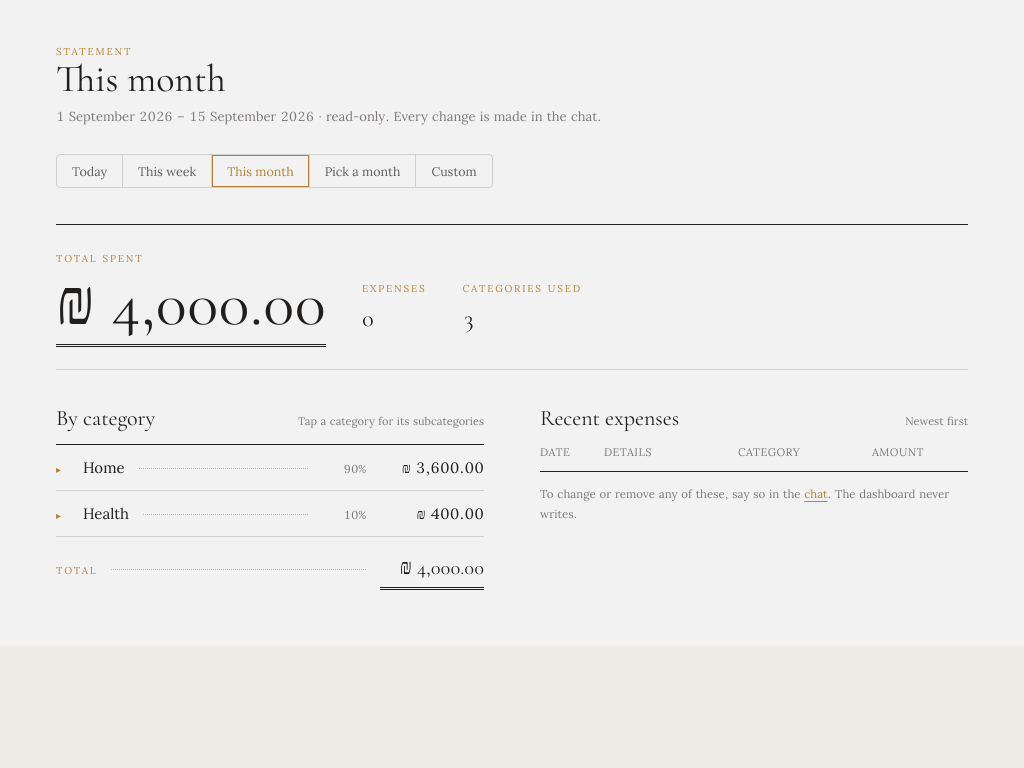
DashboardPage › rolls up a main category with both direct and subcategory spend, and shows each row's % share
Expected: the text "₪ 400.00" is shown, [416,504,484,524]
Expected: the text "10%" is shown, [344,508,366,522]
Click the button "▸ Health 10% ₪ 400.00".
click(106, 514)  # box [56,492,484,538]
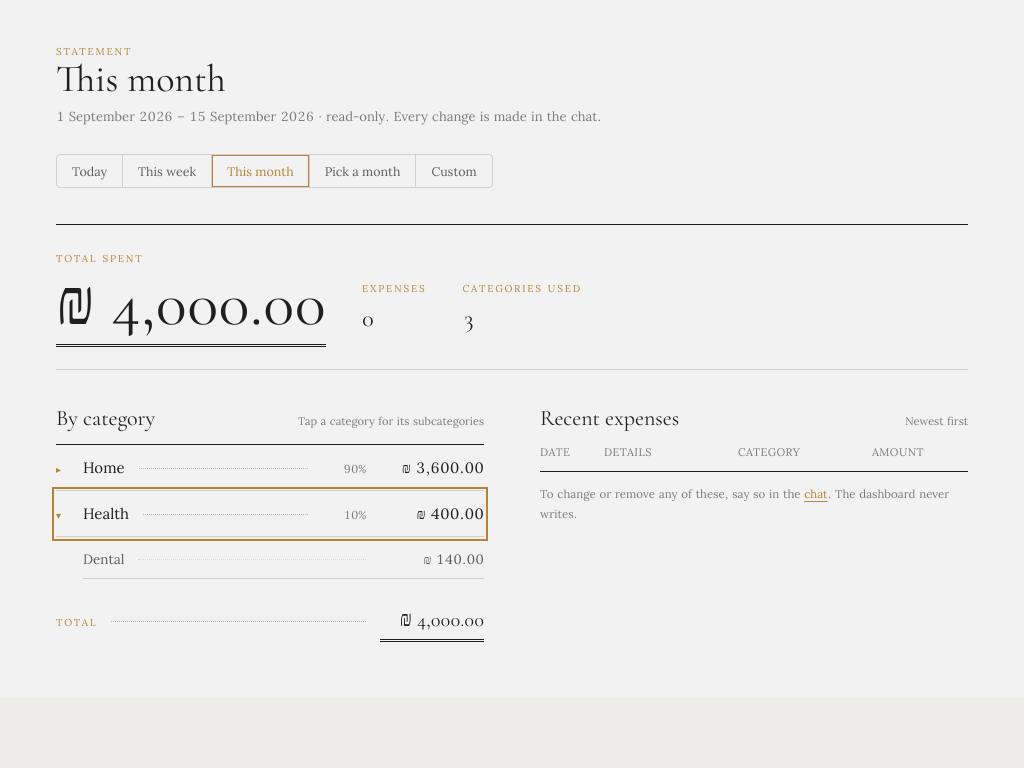
Result: the text "Dental" is shown at [83,550,124,570]
Result: the text "₪ 140.00" is shown at [423,550,484,568]
